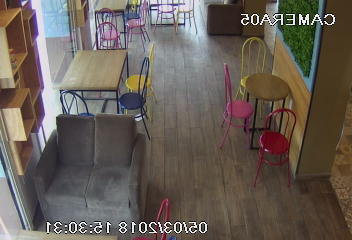libre: (210, 37, 321, 180), (45, 24, 162, 129), (78, 1, 167, 43)
